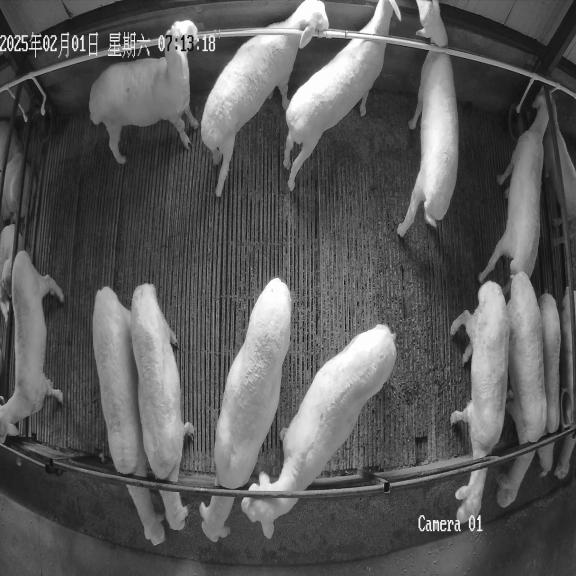drinking: (478, 87, 549, 283)
eating: (199, 278, 291, 542), (92, 287, 164, 545), (130, 284, 194, 530), (450, 281, 509, 523), (497, 272, 547, 508), (537, 293, 561, 477)
stand: (241, 325, 396, 538), (200, 0, 328, 196), (283, 0, 401, 191), (89, 20, 198, 164), (397, 0, 458, 237), (0, 251, 63, 441)
